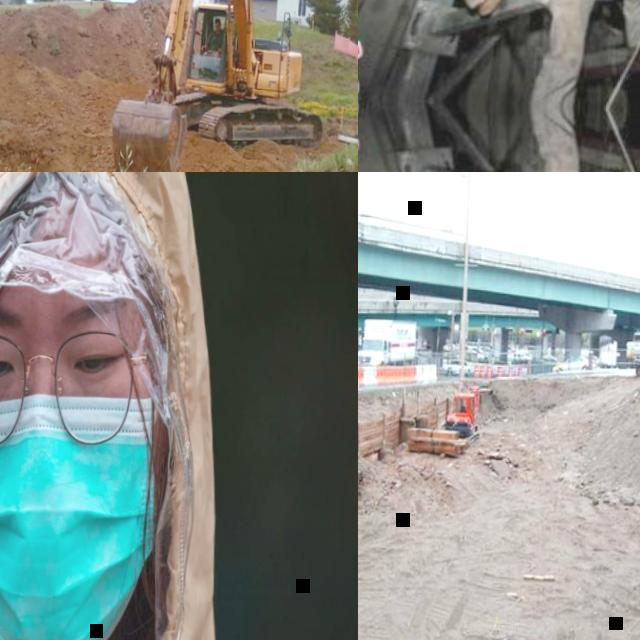Hardhat: (214, 16, 221, 22)
Mask: (0, 389, 162, 640)
NO-Hardhat: (0, 172, 186, 312)
NO-Mask: (214, 25, 220, 31)
NO-Safety Vest: (208, 31, 223, 50)
Person: (0, 172, 326, 640), (539, 0, 640, 69), (200, 17, 226, 55)
Safety Cone: (479, 364, 485, 378), (487, 365, 493, 377), (473, 365, 479, 377), (508, 366, 514, 376), (497, 366, 503, 376), (518, 365, 523, 375)
vehicle: (107, 0, 331, 172), (407, 383, 482, 454), (358, 211, 466, 241), (358, 317, 417, 367), (552, 353, 594, 373), (447, 358, 472, 375)
